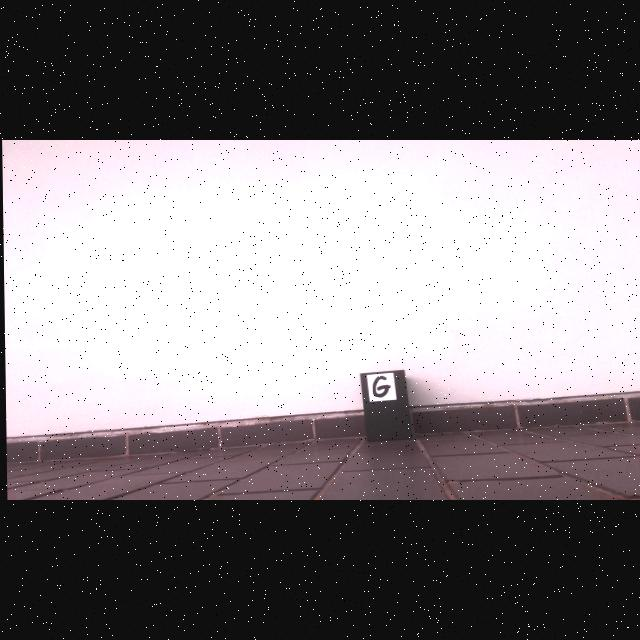G: (372, 376, 389, 397)
